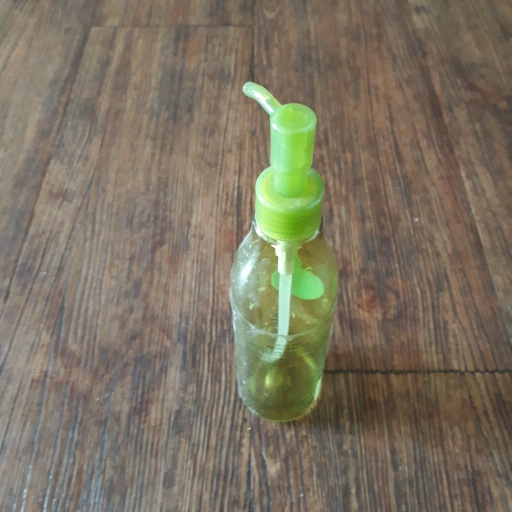Plastic_3: (228, 79, 340, 425)
